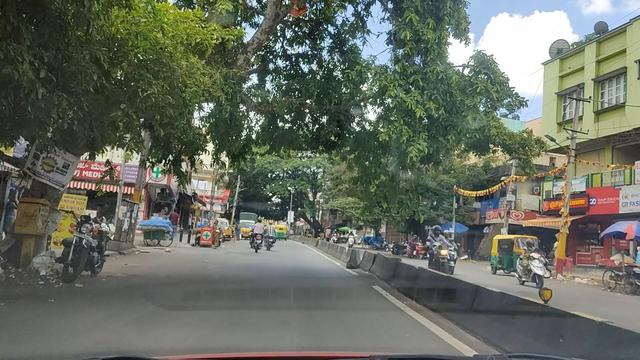LMV: (55, 208, 112, 279)
